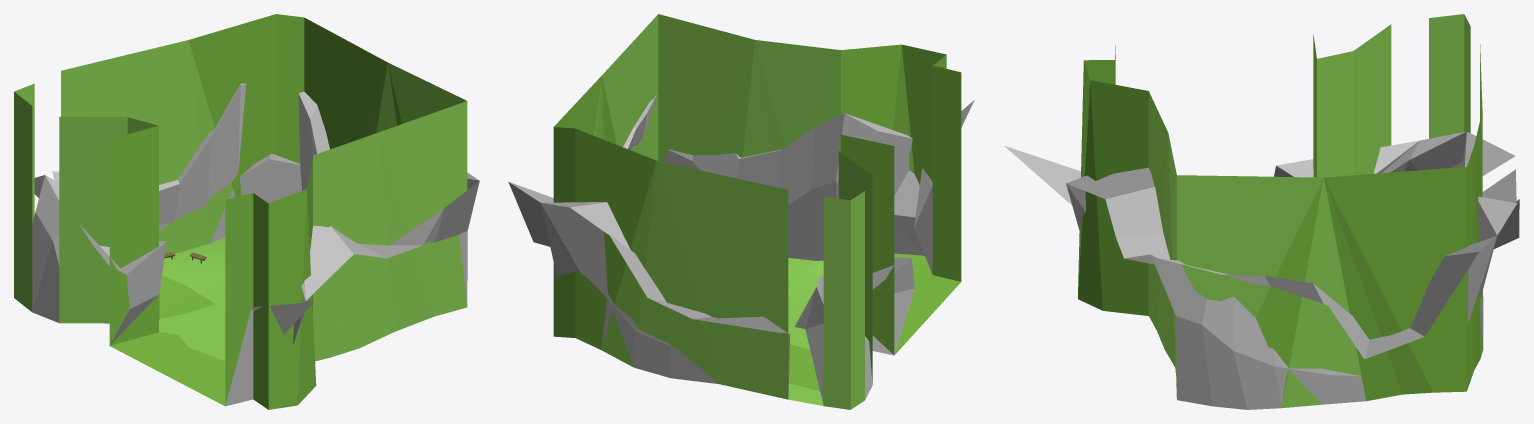
3 renders of one model, left to right at view 1: azimuth 30°, elevation 25°; view 2: azimuth 150°, elevation 25°; view 3: azimuth 270°, elevation 25°, orthographic. The views are drawn at different scales.
Parts seen in each view (by area): view 1: simple, polySurface16; view 2: simple, polySurface16; view 3: simple, polySurface16.
Boxes of the visible parts, box(x1,y1,x2,y2) form: simple: box(14, 14, 467, 409); polySurface16: box(32, 83, 479, 406); simple: box(553, 14, 961, 409); polySurface16: box(508, 95, 974, 404); simple: box(1078, 14, 1483, 407); polySurface16: box(1004, 131, 1519, 409).
Bounding box in the file's own units: 64.02 × 39.79 × 77.49.
